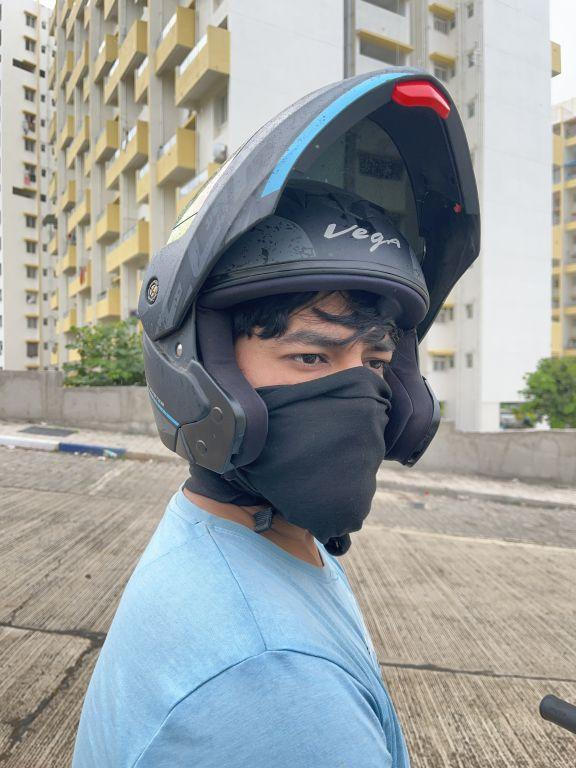helmet: (125, 40, 488, 569)
